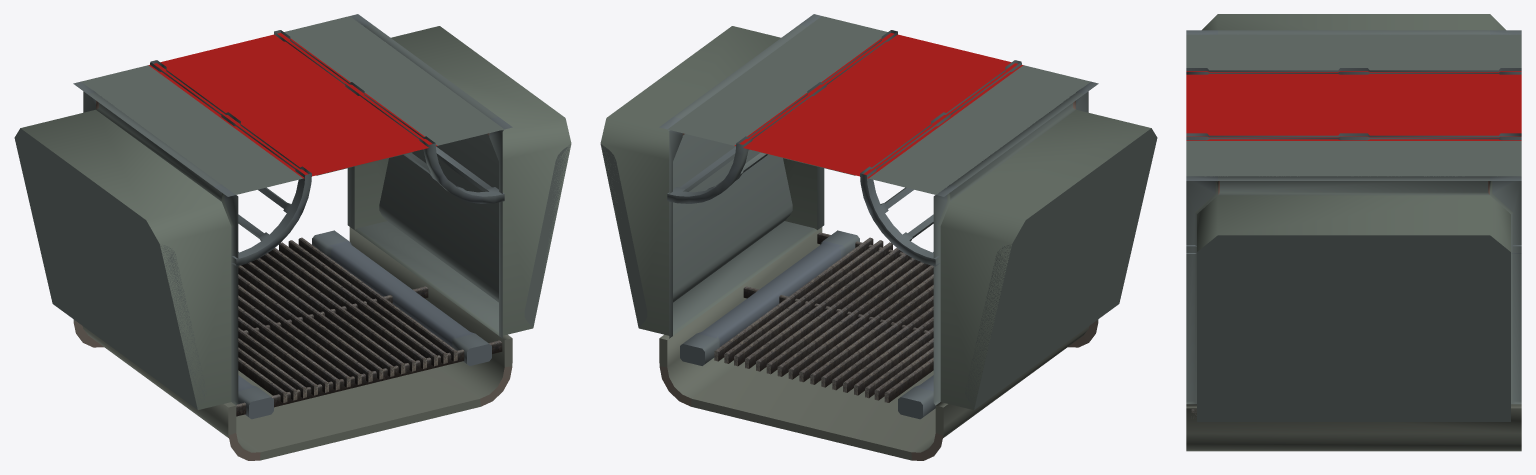
File: maintenance_tunnel_straight_plain.dae
The picture shows the model from 3 angles, left to right: view 1: azimuth 30°, elevation 25°; view 2: azimuth 150°, elevation 25°; view 3: azimuth 270°, elevation 25°; orthographic projection. The views are drawn at different scales.
Parts seen in each view (by area): view 1: tunnel_plain, grate__4_; view 2: tunnel_plain, grate__4_; view 3: tunnel_plain.
Boxes of the visible parts, x1=… form: tunnel_plain: x1=14, y1=14, x2=571, y2=460; grate__4_: x1=236, y1=237, x2=502, y2=416; tunnel_plain: x1=600, y1=14, x2=1157, y2=460; grate__4_: x1=714, y1=232, x2=933, y2=402; tunnel_plain: x1=1186, y1=14, x2=1521, y2=451.
Size of what is drawn, in the model's own units: 3.12 by 1.95 by 2.
